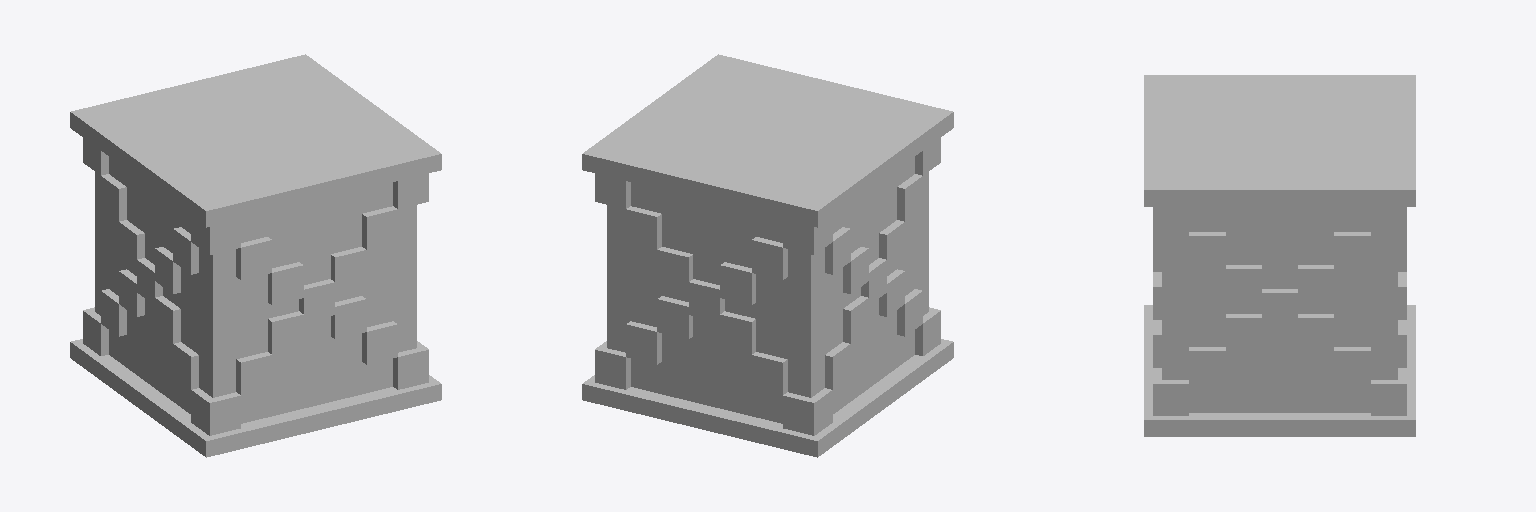
Rendered from crate.obj.
3 views of the same model, side by side, from view 1: azimuth 30°, elevation 25°; view 2: azimuth 150°, elevation 25°; view 3: azimuth 270°, elevation 25° (orthographic).
Size of the model in its own units: 30 by 30 by 30.